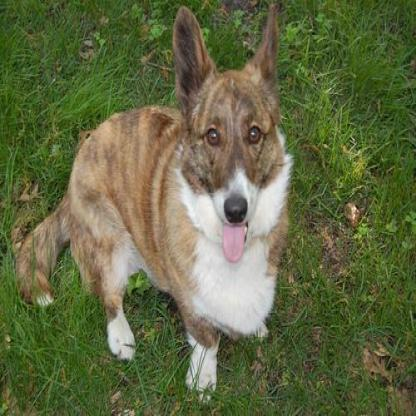Cardigan: (13, 1, 296, 405)
